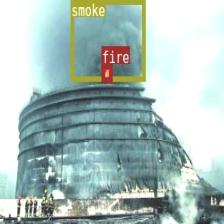fire: (101, 64, 111, 81)
smoke: (70, 0, 144, 80)
